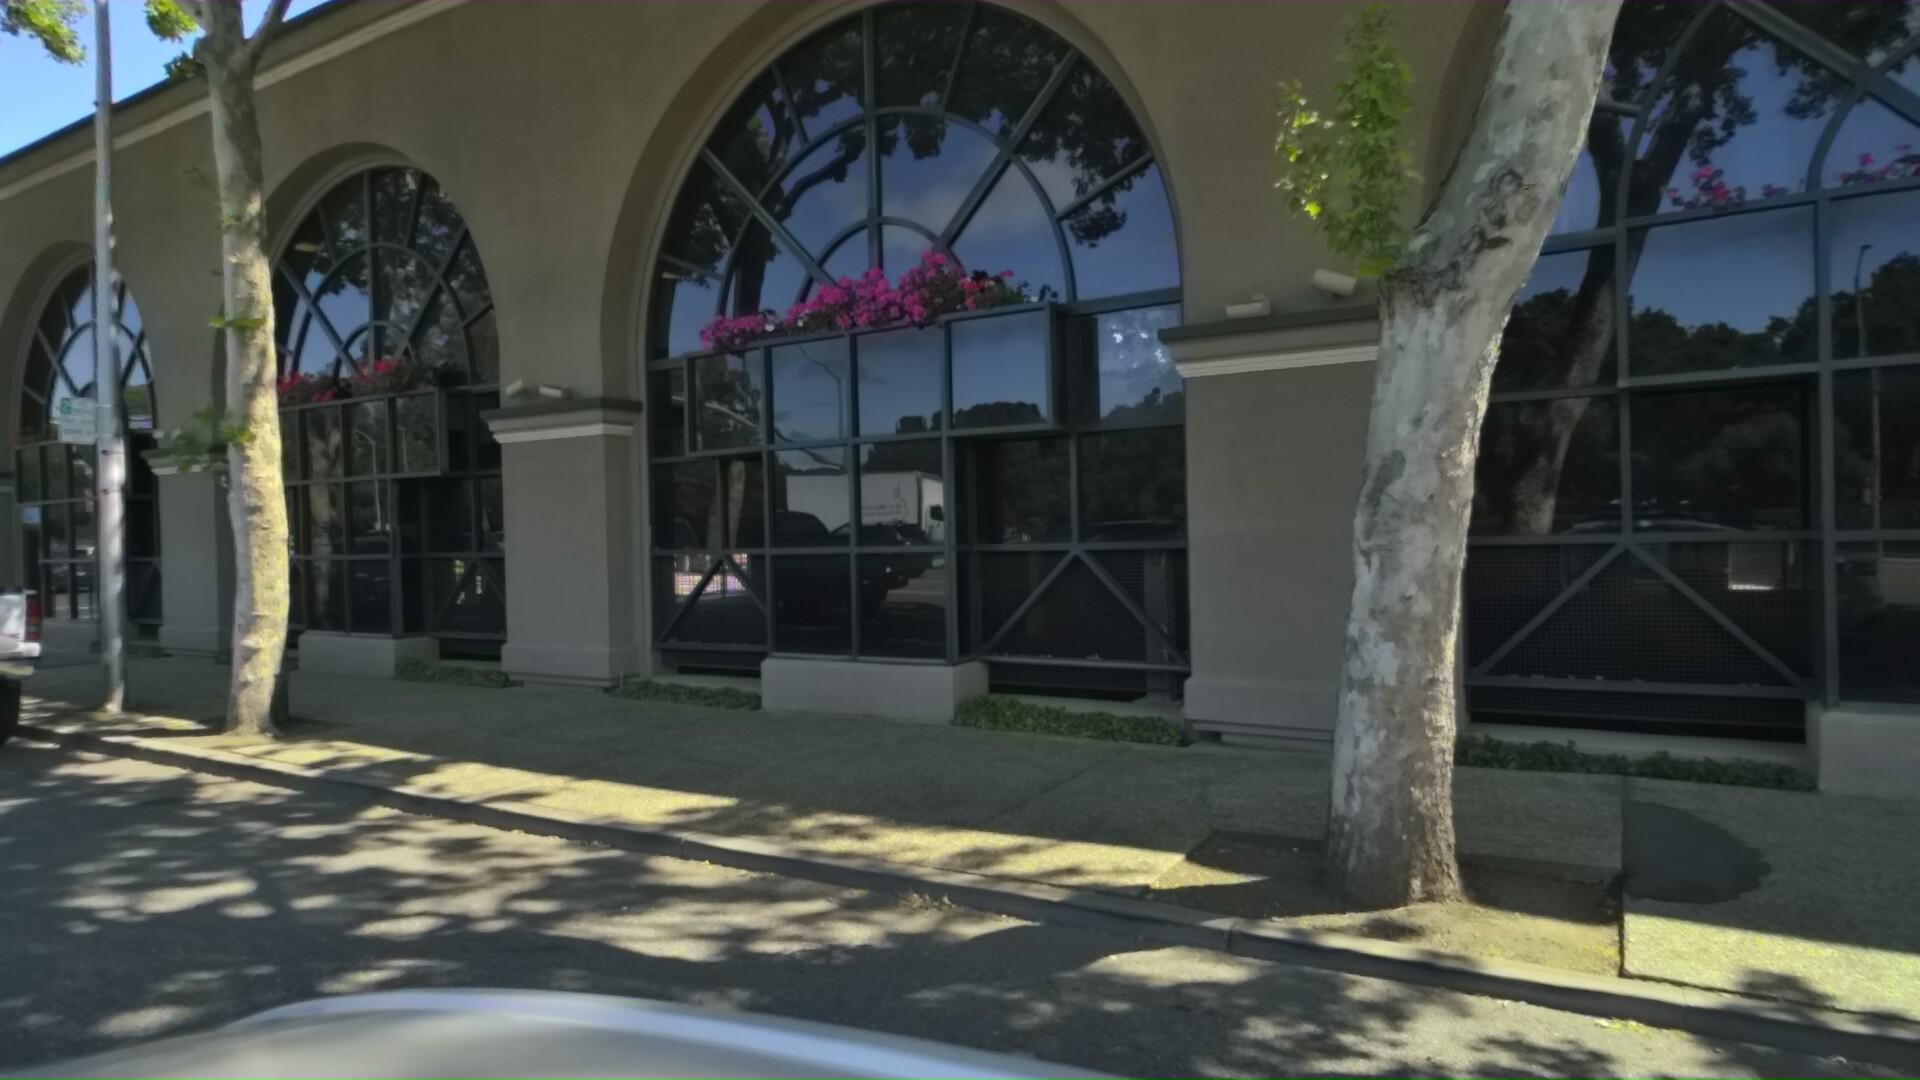car: (0, 498, 80, 808)
